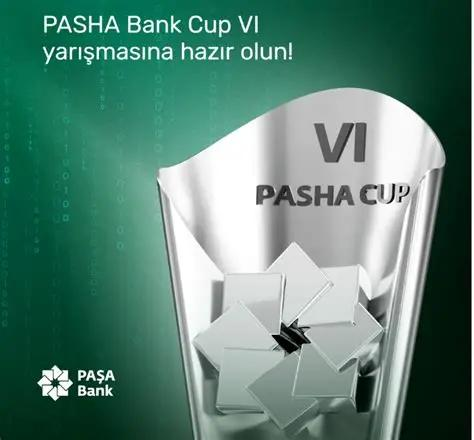Pasha Bank: (192, 238, 386, 429), (35, 363, 73, 403)
